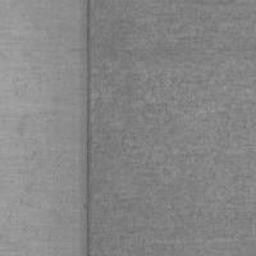Welding line: (83, 0, 92, 256)
